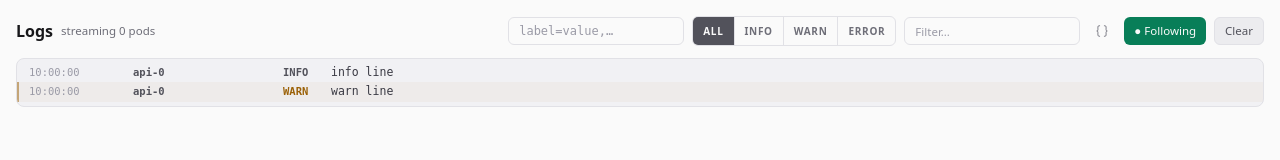
Scenario: LogsView › filters by severity chip
Expected: the text "warn line" is shown, [331,83,393,101]
What coordinates should you click on to do the following:
click the button "WARN"
I would click on:
 (811, 31)
Its box is [784,17,838,45].
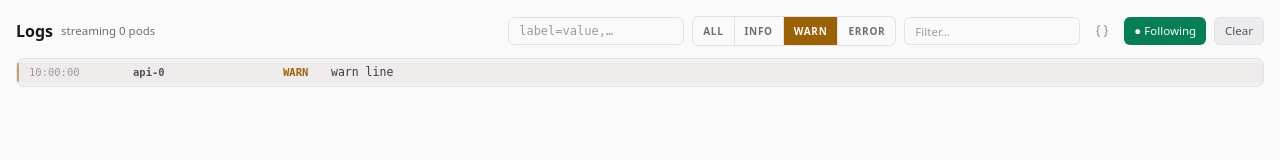
Expected: the text "warn line" is shown, [331,64,393,81]
Expected: the text "info line" is gone
